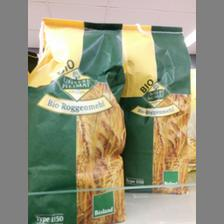Mehl: (27, 18, 125, 222), (118, 25, 190, 194)
